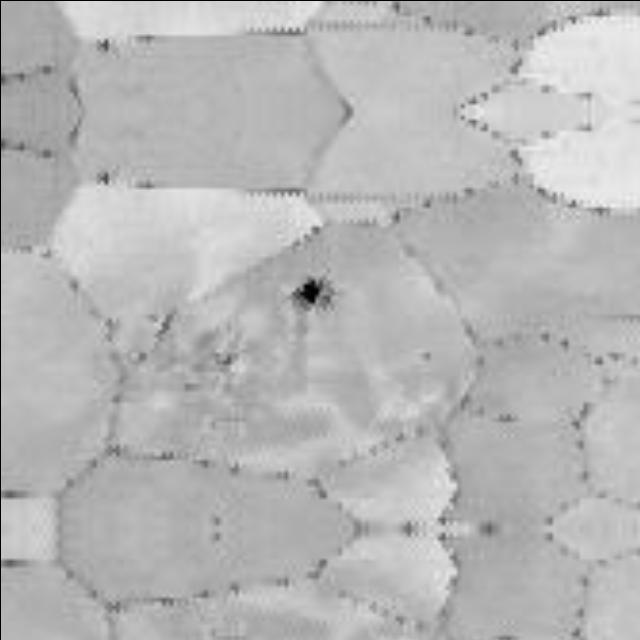good_void: (291, 272, 340, 313)
